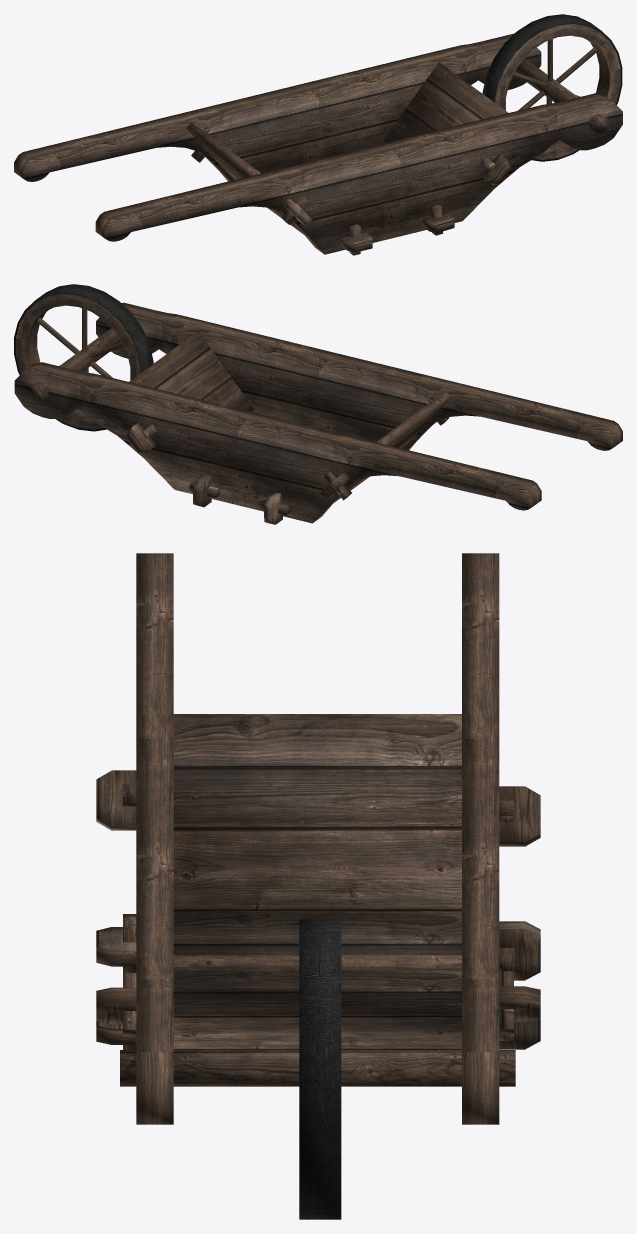
Rendered from barrow1.fbx.
3 renders of one model, top to bottom at view 1: azimuth 30°, elevation 25°; view 2: azimuth 150°, elevation 25°; view 3: azimuth 270°, elevation 25°, orthographic. The views are drawn at different scales.
Parts seen in each view (by area): view 1: Cube_004, Cylinder_001; view 2: Cube_004, Cylinder_001; view 3: Cube_004, Cylinder_001.
Boxes of the visible parts, <box> form: Cube_004: <box>14,33,622,255</box>; Cylinder_001: <box>482,14,622,161</box>; Cube_004: <box>14,302,622,524</box>; Cylinder_001: <box>14,284,153,431</box>; Cube_004: <box>96,553,540,1124</box>; Cylinder_001: <box>299,919,341,1219</box>.
Bounding box in the file's own units: 13.32 × 3.17 × 4.59.
